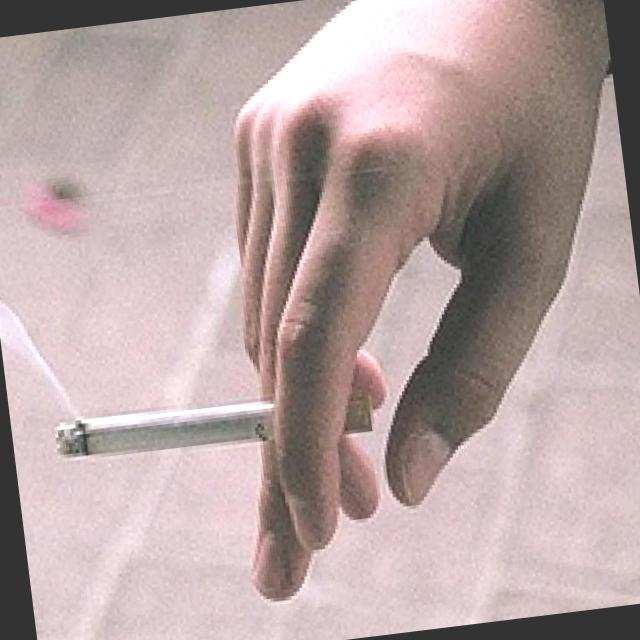cigarette: (39, 369, 386, 485)
